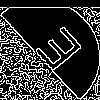E: (25, 25, 85, 80)
